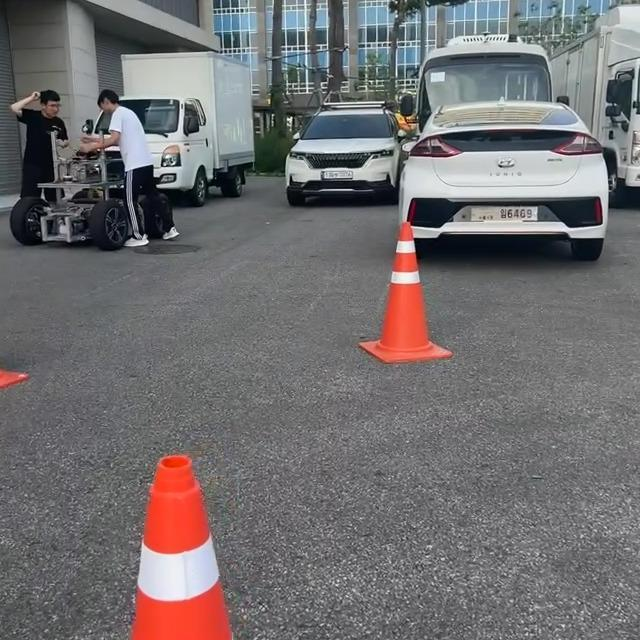fallen_object: (92, 427, 221, 629), (346, 210, 452, 391)
